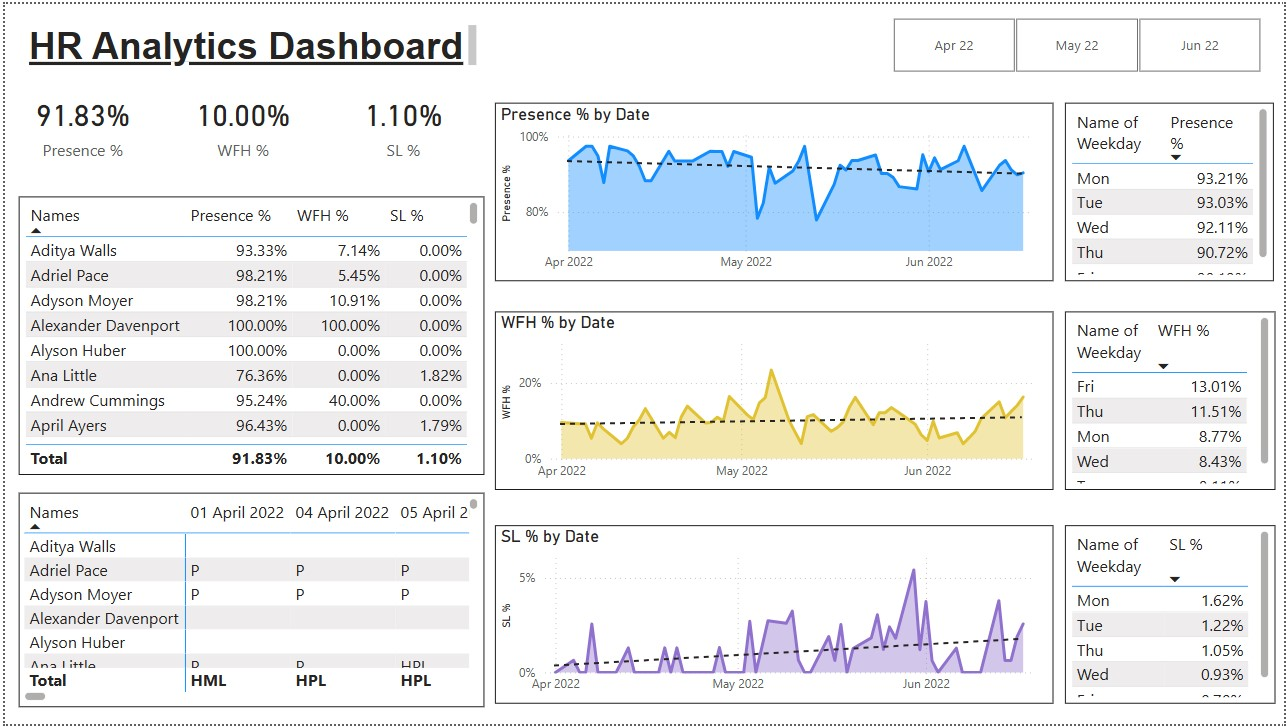

The page's visual inventory and layout, read from the dashboard file:
{"tool":"powerbi","page":{"name":"Presence Insights","canvas":[1280,720],"ordinal":0},"visuals":[{"type":"card","fields":{"Values":["Measure Table.Presence %"]},"box":[0.2,66.6,155.9,108.6],"z":0},{"type":"slicer","fields":{"Values":["Final Data.Month"]},"box":[862.9,7.1,417.1,67.1],"z":1000},{"type":"textbox","box":[14.3,15.7,462.9,51.4],"z":2000},{"type":"card","fields":{"Values":["Measure Table.WFH %"]},"box":[156.1,66.6,164.2,108.6],"z":3000},{"type":"tableEx","fields":{"Values":["Final Data.Names","Measure Table.Presence %","Measure Table.WFH %","Measure Table.SL %"]},"box":[14.3,192.9,465.7,278.6],"z":4000},{"type":"card","fields":{"Values":["Measure Table.SL %"]},"box":[320.3,66.6,157.1,108.6],"z":5000},{"type":"pivotTable","fields":{"Rows":["Final Data.Names"],"Columns":["Final Data.Date"],"Values":["Final Data.Value"]},"box":[14.3,488.6,465.7,214.3],"z":6000},{"type":"areaChart","fields":{"Category":["Final Data.Date"],"Y":["Measure Table.Presence %"]},"box":[490,98.6,558.6,178.6],"z":7000},{"type":"areaChart","fields":{"Category":["Final Data.Date"],"Y":["Measure Table.WFH %"]},"box":[490,307.1,558.6,178.6],"z":8000},{"type":"areaChart","fields":{"Category":["Final Data.Date"],"Y":["Measure Table.SL %"]},"box":[490,521.4,558.6,178.6],"z":9000},{"type":"tableEx","fields":{"Values":["Final Data.Name of Weekday","Measure Table.Presence %"]},"box":[1060,98.6,208.6,178.6],"z":10000},{"type":"tableEx","fields":{"Values":["Final Data.Name of Weekday","Measure Table.WFH %"]},"box":[1060.3,307.5,210.2,178.1],"z":11000},{"type":"tableEx","fields":{"Values":["Final Data.Name of Weekday","Measure Table.SL %"]},"box":[1060.3,521.2,210.2,178.1],"z":12000}]}

Visuals, with their boxes in screenshot pixels (x1, y1, x2, y2), scaled from the page's 1280x720 canvas onto the 1287x727 screenshot:
card - Measure Table.Presence %: (0,67,157,177)
slicer - Final Data.Month: (868,7,1286,75)
textbox: (14,16,480,68)
card - Measure Table.WFH %: (157,67,322,177)
tableEx - Final Data.Names x Measure Table.Presence %: (14,195,483,476)
card - Measure Table.SL %: (322,67,480,177)
pivotTable - Final Data.Names x Final Data.Date: (14,493,483,710)
areaChart - Final Data.Date x Measure Table.Presence %: (493,100,1054,280)
areaChart - Final Data.Date x Measure Table.WFH %: (493,310,1054,490)
areaChart - Final Data.Date x Measure Table.SL %: (493,526,1054,707)
tableEx - Final Data.Name of Weekday x Measure Table.Presence %: (1066,100,1276,280)
tableEx - Final Data.Name of Weekday x Measure Table.WFH %: (1066,310,1277,490)
tableEx - Final Data.Name of Weekday x Measure Table.SL %: (1066,526,1277,706)
